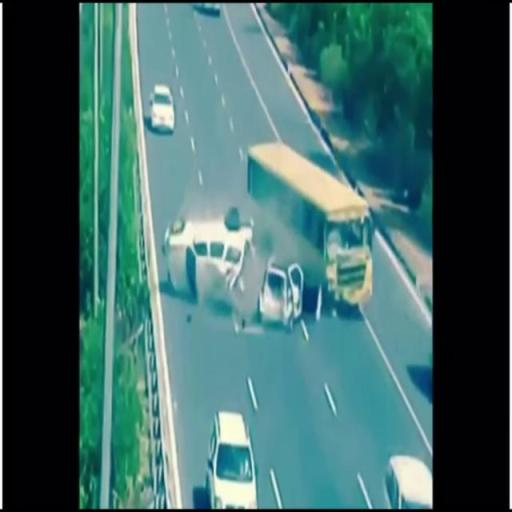小汽车: (245, 139, 377, 309), (204, 412, 264, 508), (383, 453, 438, 508), (145, 82, 176, 132)
小汽车撞小汽车: (162, 216, 304, 330)
